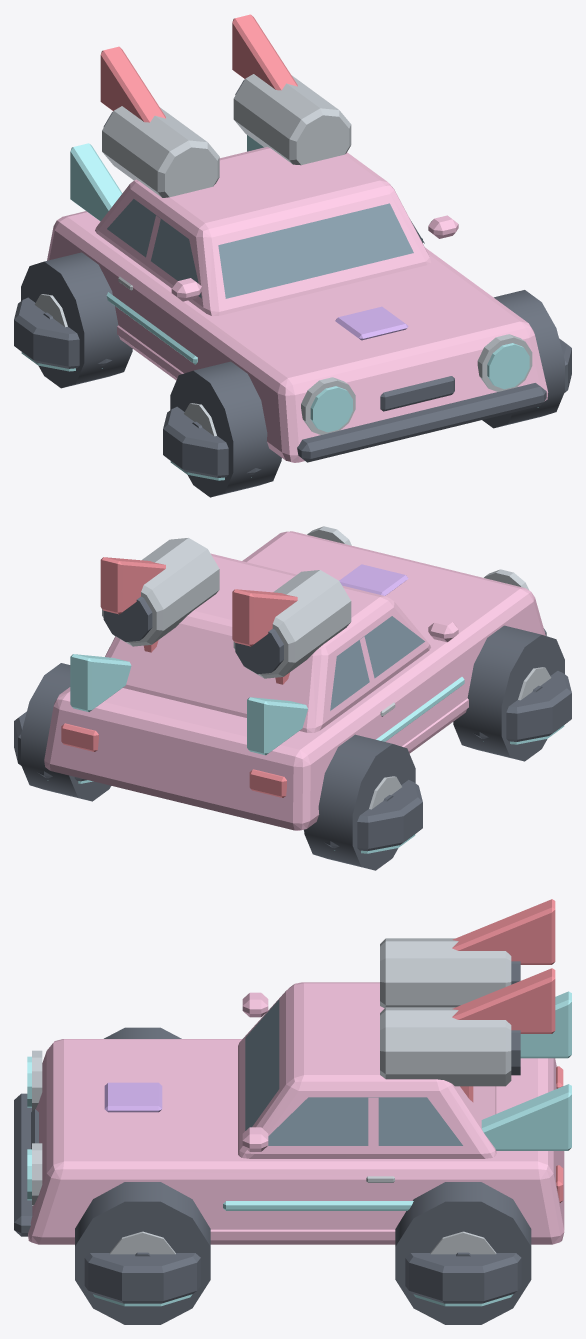
Rendered from cars_B.fbx.
3 views of the same model, one above another, from view 1: azimuth 30°, elevation 25°; view 2: azimuth 150°, elevation 25°; view 3: azimuth 270°, elevation 25° (orthographic). The views are drawn at different scales.
Parts seen in each view (by area): view 1: D05_hover_car_pink, D05_rocket_car_black, D05_rocket_car_gray, D05_hover_car_black, D05_hover_car_glass, D05_hover_car_cyan, D05_rocket_car_red, D05_hover_car_gray, D05_void_racer_purple; view 2: D05_hover_car_pink, D05_rocket_car_black, D05_rocket_car_gray, D05_hover_car_black, D05_hover_car_cyan, D05_rocket_car_red, D05_hover_car_glass, D05_hover_car_red, D05_void_racer_purple, D05_hover_car_gray; view 3: D05_hover_car_pink, D05_rocket_car_black, D05_rocket_car_gray, D05_hover_car_black, D05_hover_car_glass, D05_hover_car_cyan, D05_rocket_car_red, D05_void_racer_purple, D05_hover_car_gray.
Part boxes in pixels (<box>): D05_hover_car_pink: <box>47,146,548,462</box>; D05_rocket_car_black: <box>21,79,564,497</box>; D05_rocket_car_gray: <box>34,74,351,436</box>; D05_hover_car_black: <box>14,238,571,477</box>; D05_hover_car_glass: <box>107,199,424,298</box>; D05_hover_car_cyan: <box>21,135,538,480</box>; D05_rocket_car_red: <box>100,14,297,122</box>; D05_hover_car_gray: <box>118,276,532,434</box>; D05_void_racer_purple: <box>335,306,408,340</box>; D05_hover_car_pink: <box>44,531,545,830</box>; D05_rocket_car_black: <box>21,596,564,870</box>; D05_rocket_car_gray: <box>102,538,551,809</box>; D05_hover_car_black: <box>14,628,571,851</box>; D05_hover_car_cyan: <box>47,654,564,853</box>; D05_rocket_car_red: <box>100,557,297,684</box>; D05_hover_car_glass: <box>330,616,424,710</box>; D05_hover_car_red: <box>61,723,286,797</box>; D05_void_racer_purple: <box>339,564,408,595</box>; D05_hover_car_gray: <box>307,526,529,716</box>; D05_hover_car_pink: <box>28,982,564,1244</box>; D05_rocket_car_black: <box>75,961,531,1324</box>; D05_rocket_car_gray: <box>109,938,511,1254</box>; D05_hover_car_black: <box>14,1093,521,1303</box>; D05_hover_car_glass: <box>245,999,462,1145</box>; D05_hover_car_cyan: <box>27,991,571,1306</box>; D05_rocket_car_red: <box>452,899,555,1102</box>; D05_void_racer_purple: <box>104,1082,162,1112</box>; D05_hover_car_gray: <box>32,1050,394,1205</box>.
Bounding box in the file's own units: 468 × 320 × 540.
